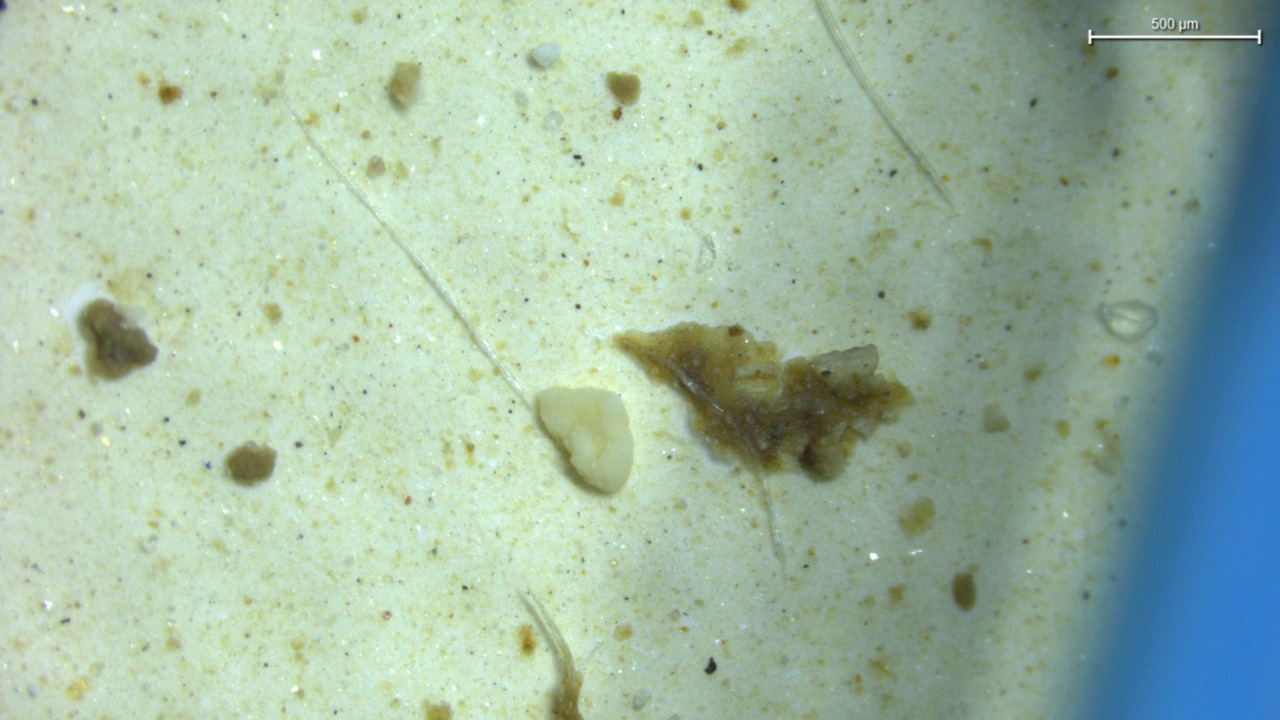microplastic_fragment: (535, 386, 634, 493), (1097, 300, 1158, 344), (528, 43, 561, 70)
